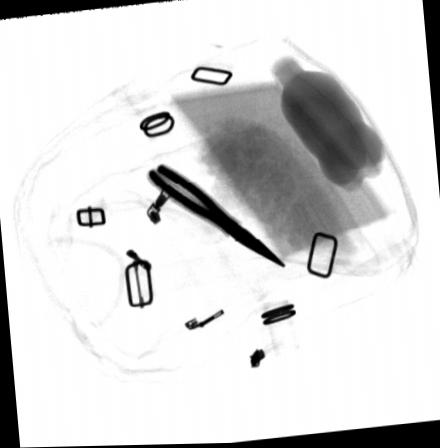Pliers: (145, 164, 285, 269)
